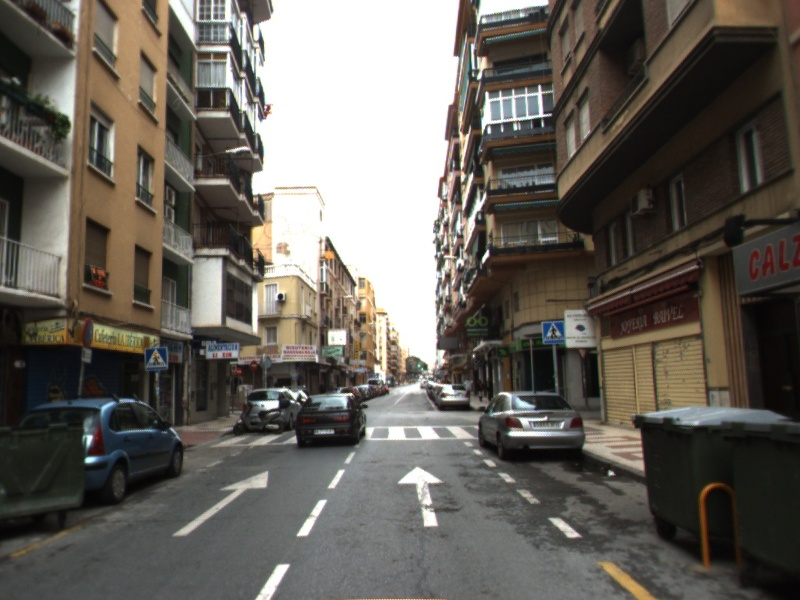STRAIGHT: (170, 469, 270, 539), (395, 464, 447, 528)
